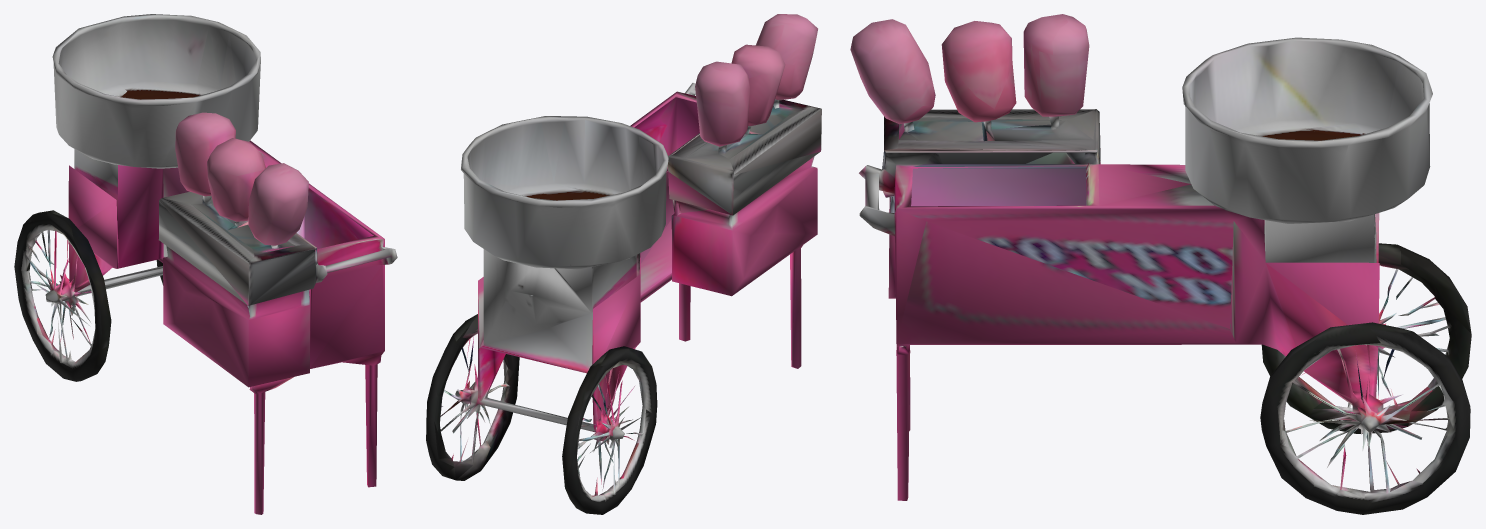
Rendered from Algodones.obj.
3 renders of one model, left to right at view 1: azimuth 30°, elevation 25°; view 2: azimuth 150°, elevation 25°; view 3: azimuth 270°, elevation 25°, orthographic. The views are drawn at different scales.
Visible parts, largest first — view 1: tripo_node_24990871-d614-4724-af9f-17171fe88785; view 2: tripo_node_24990871-d614-4724-af9f-17171fe88785; view 3: tripo_node_24990871-d614-4724-af9f-17171fe88785.
Boxes of the visible parts, x1,y1,x2,y2 form: tripo_node_24990871-d614-4724-af9f-17171fe88785: (14, 14, 397, 514); tripo_node_24990871-d614-4724-af9f-17171fe88785: (426, 14, 821, 514); tripo_node_24990871-d614-4724-af9f-17171fe88785: (850, 14, 1471, 514).
Size of the model in its own units: 2.01 by 3.72 by 4.99.
